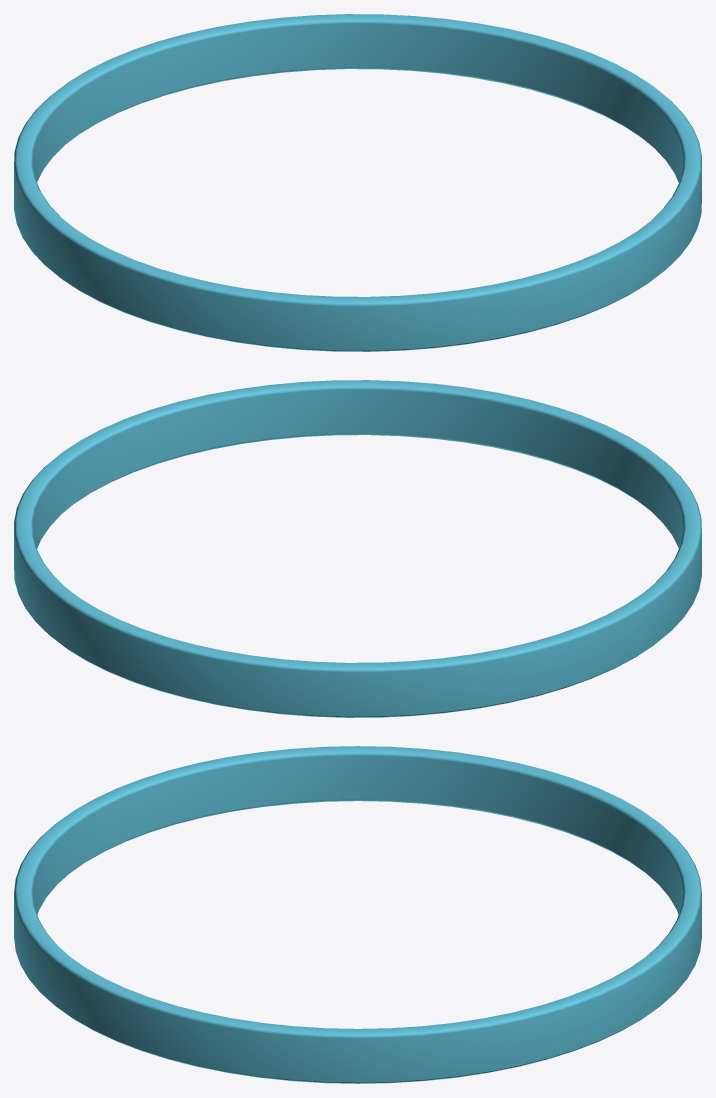
The picture shows the model from 3 angles, top to bottom: view 1: azimuth 30°, elevation 25°; view 2: azimuth 150°, elevation 25°; view 3: azimuth 270°, elevation 25°; orthographic projection.
Parts seen in each view (by area): view 1: seal_body; view 2: seal_body; view 3: seal_body.
Part boxes in pixels (left/top/right/bottom): seal_body: left=14, top=14, right=701, bottom=351; seal_body: left=14, top=380, right=701, bottom=717; seal_body: left=14, top=746, right=701, bottom=1083.
Size of the model in its own units: 0.2256 by 0.018 by 0.2256.
